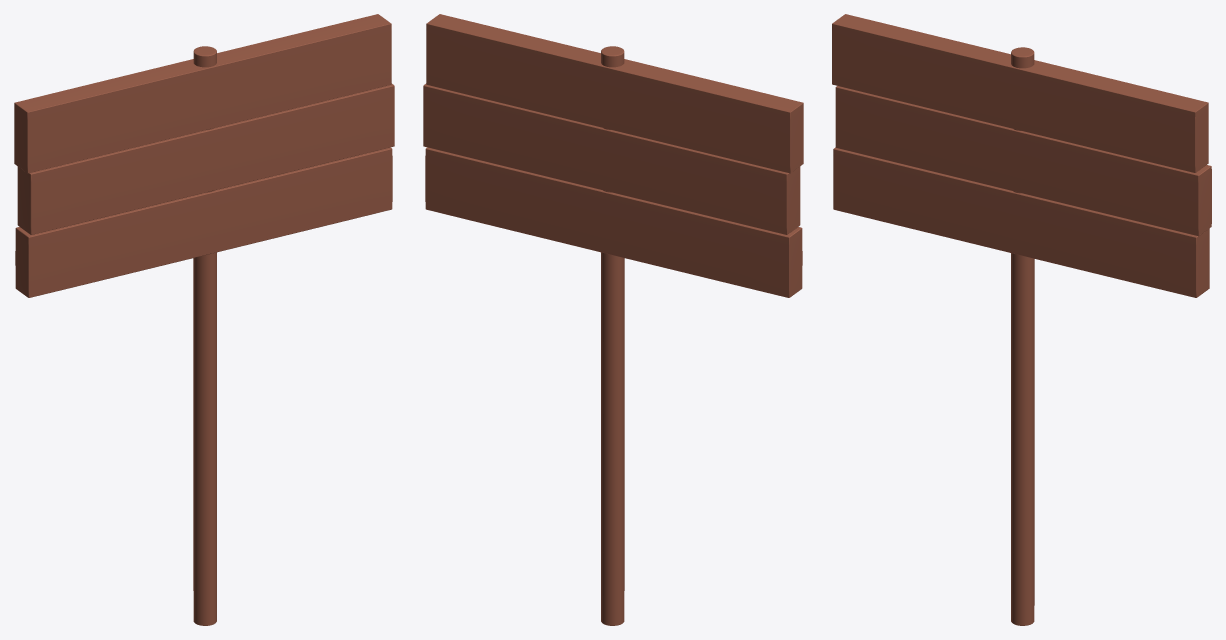
Rendered from sign1.fbx.
3 renders of one model, left to right at view 1: azimuth 30°, elevation 25°; view 2: azimuth 150°, elevation 25°; view 3: azimuth 330°, elevation 25°, orthographic.
Visible parts, largest first — view 1: sign1; view 2: sign1; view 3: sign1.
Part boxes in pixels (box(x1,y1,x2,y2)): sign1: box(14, 14, 394, 625); sign1: box(423, 14, 803, 625); sign1: box(832, 14, 1211, 625).
Bounding box in the file's own units: 65.64 × 97.3 × 4.21.
